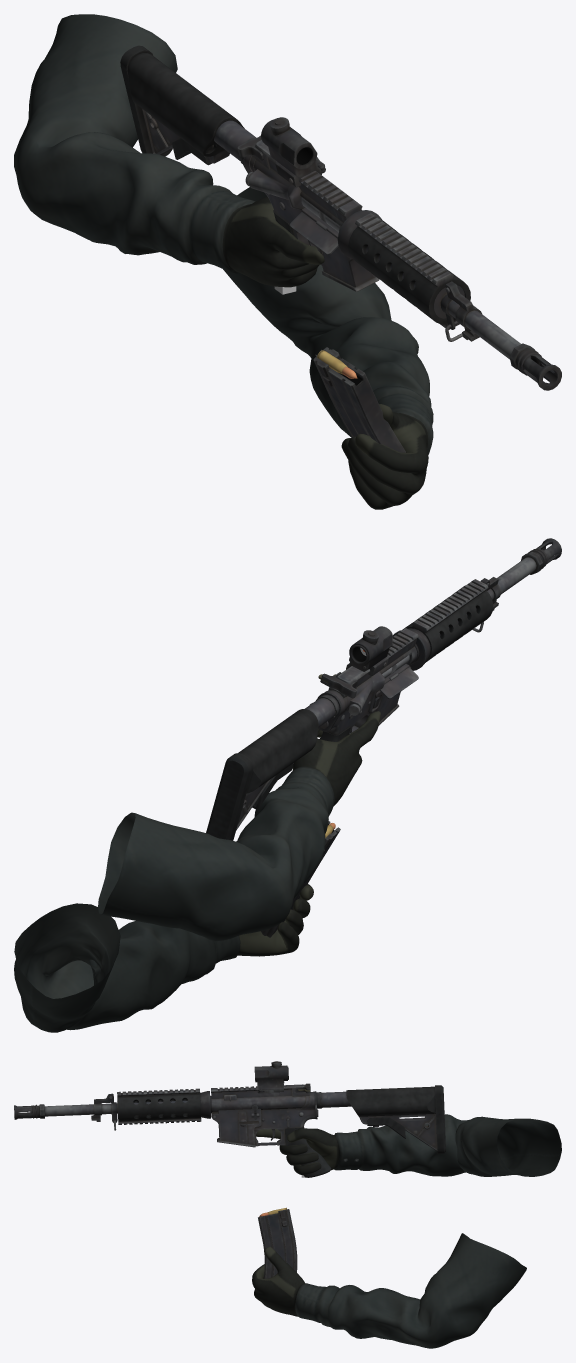
File: gun_000077.obj
The picture shows the model from 3 angles, top to bottom: view 1: azimuth 30°, elevation 25°; view 2: azimuth 150°, elevation 25°; view 3: azimuth 270°, elevation 25°; orthographic projection. The views are drawn at different scales.
Parts seen in each view (by area): view 1: armmesh_arms_0, base_carbine_0, clip_carbine_0, scope_carbine_0, lid_carbine_0; view 2: armmesh_arms_0, base_carbine_0, scope_carbine_0, lid_carbine_0; view 3: armmesh_arms_0, base_carbine_0, clip_carbine_0, scope_carbine_0.
Boxes of the visible parts, bbox=[...] form: armmesh_arms_0: bbox=[14, 14, 433, 509]; base_carbine_0: bbox=[120, 45, 561, 390]; clip_carbine_0: bbox=[313, 347, 405, 452]; scope_carbine_0: bbox=[261, 117, 325, 187]; lid_carbine_0: bbox=[290, 212, 338, 254]; armmesh_arms_0: bbox=[14, 711, 380, 1032]; base_carbine_0: bbox=[206, 538, 561, 840]; scope_carbine_0: bbox=[346, 626, 392, 675]; lid_carbine_0: bbox=[379, 667, 418, 698]; armmesh_arms_0: bbox=[252, 1114, 561, 1348]; base_carbine_0: bbox=[14, 1084, 445, 1177]; clip_carbine_0: bbox=[258, 1209, 297, 1278]; scope_carbine_0: bbox=[254, 1061, 288, 1093].
Bounding box in the file's own units: 49.27 × 59.35 × 129.
